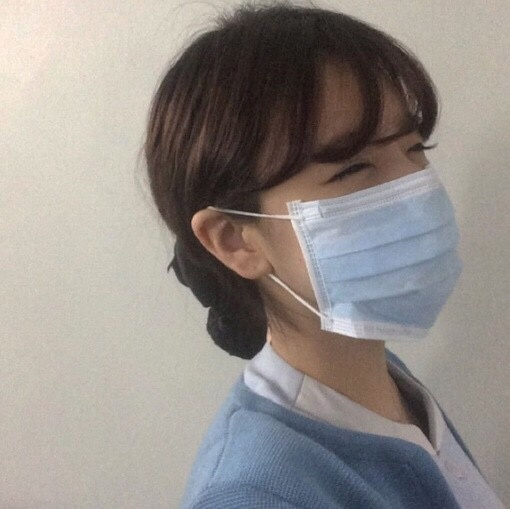face_mask: (274, 81, 462, 340)
